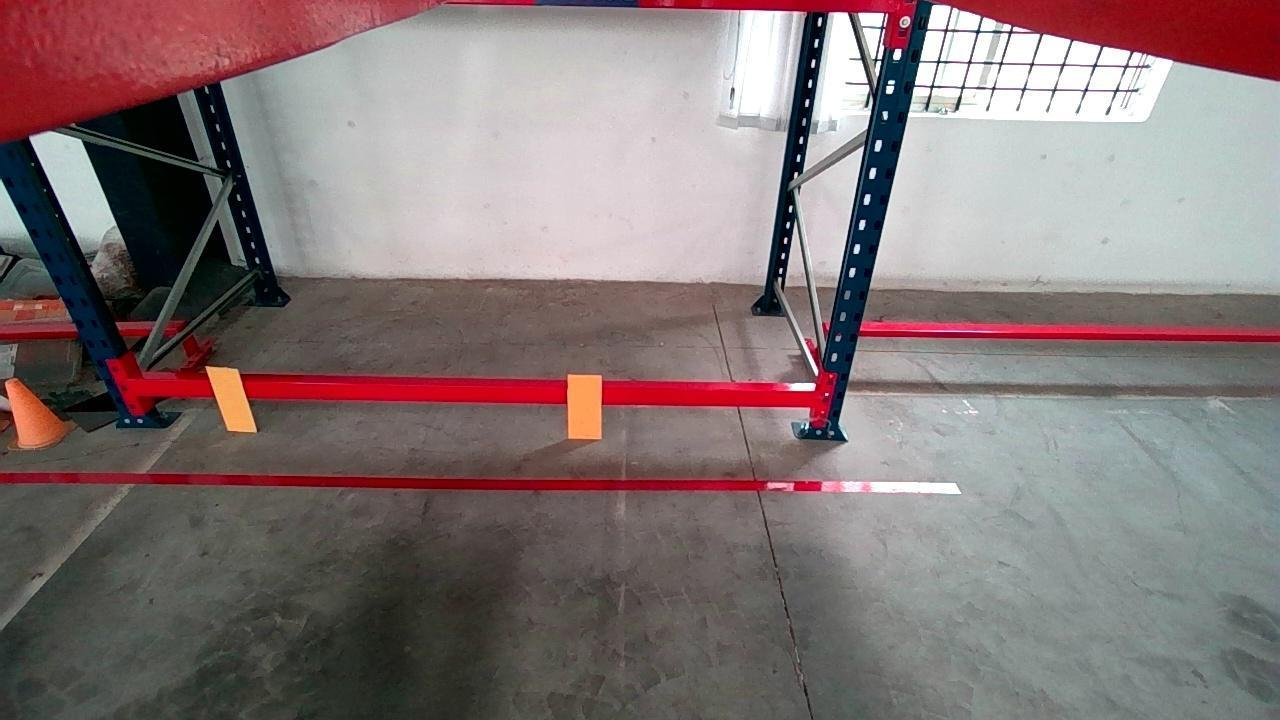h_rack: (133, 374, 814, 406)
orange_strip: (205, 366, 257, 430), (568, 373, 605, 436)
red_line: (0, 471, 963, 498)
